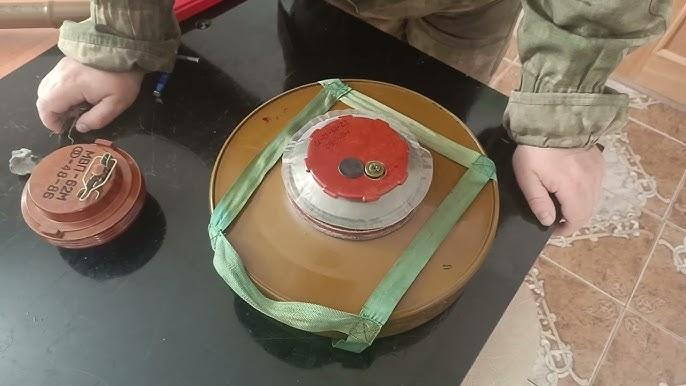TM 62: (208, 76, 502, 342)
